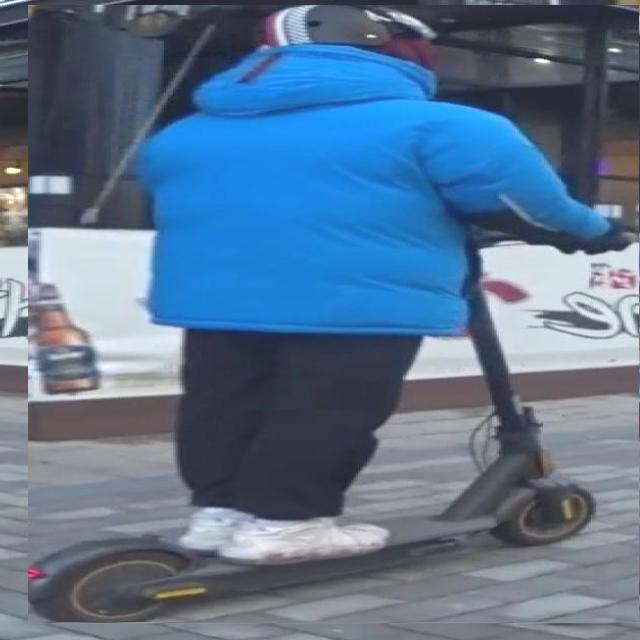with scooter: (28, 6, 639, 625)
